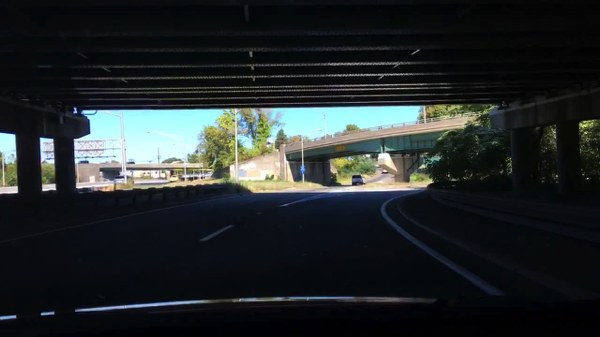car: (350, 173, 365, 187), (113, 175, 127, 185), (169, 174, 179, 184), (78, 160, 90, 165), (126, 160, 135, 165), (381, 169, 389, 174)
traffic sign: (299, 165, 304, 174)
